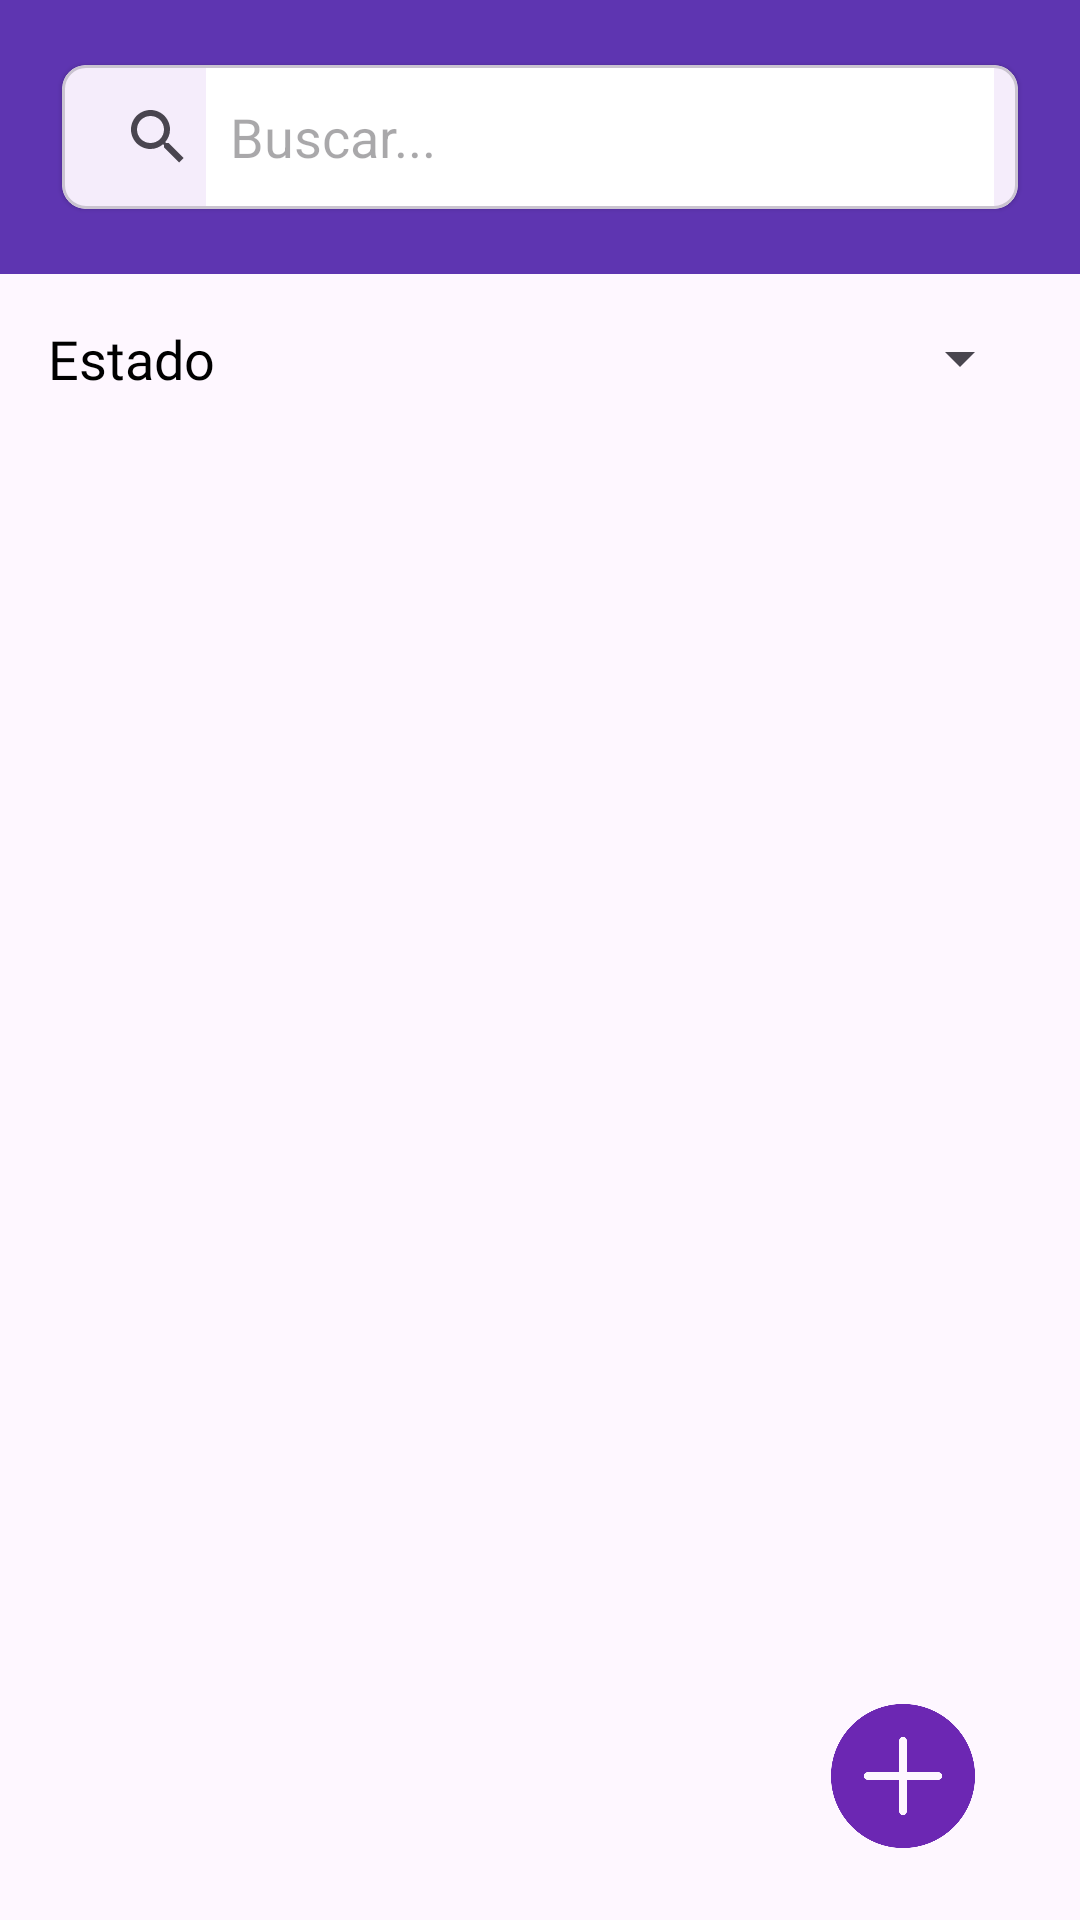

Icons on this 1080 x 1920 Android screen, each with its box as Rect(x1, y1, x2, y2):
Agregar item: Rect(831, 1704, 975, 1848)
